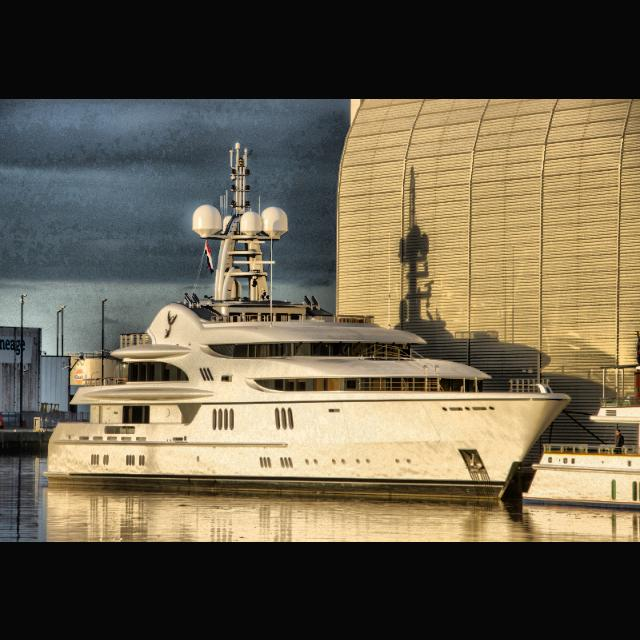yacht: (41, 201, 574, 503)
